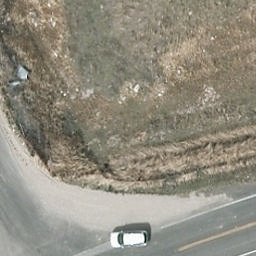car: (109, 230, 151, 250)
